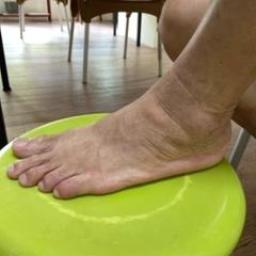Lateral View -Left Foot-: (1, 85, 251, 210)
